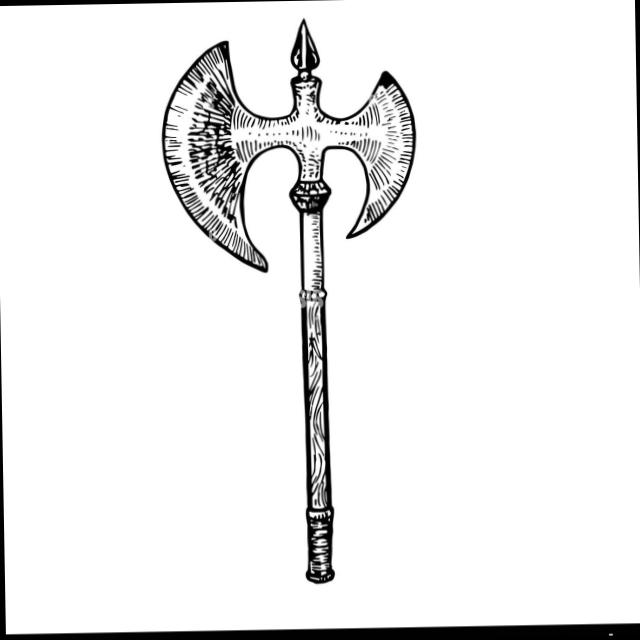Gun: (142, 0, 462, 582)
